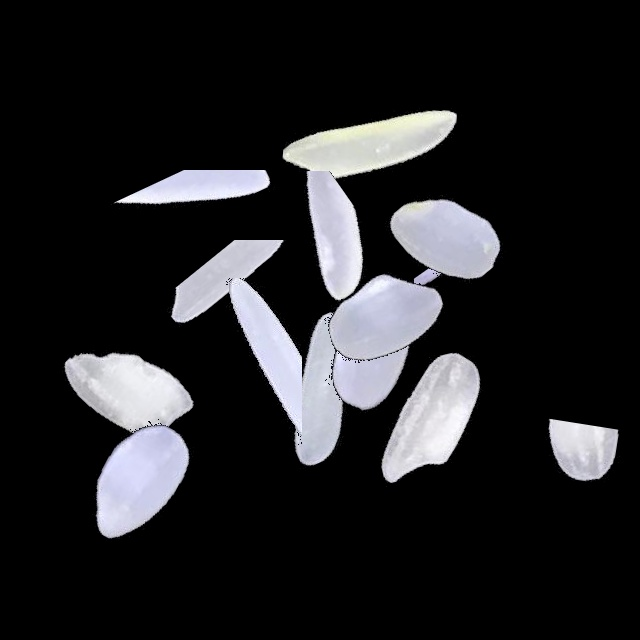Broken: (164, 171, 414, 324), (159, 243, 302, 493), (134, 240, 384, 381), (73, 170, 323, 301), (515, 354, 627, 604), (414, 180, 517, 430), (76, 482, 326, 563)
Full: (195, 265, 445, 515), (302, 290, 552, 540), (1, 262, 251, 512), (249, 222, 499, 472), (245, 20, 495, 270), (324, 111, 574, 361), (12, 355, 262, 605), (261, 190, 511, 440)
